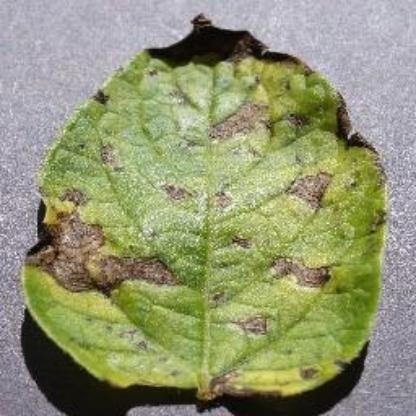Early-Blight: (20, 9, 384, 410)
